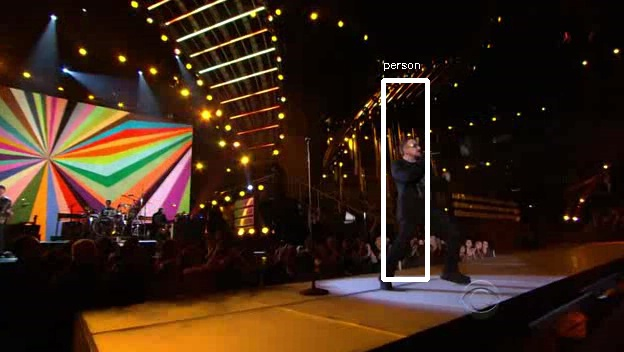person: (390, 140, 449, 242), (387, 140, 446, 242), (393, 140, 452, 242), (390, 137, 449, 239), (390, 143, 449, 245)
target_negative: (257, 52, 589, 345), (245, 34, 412, 292), (125, 279, 288, 320), (531, 136, 610, 153), (39, 71, 221, 75), (533, 283, 536, 304)
